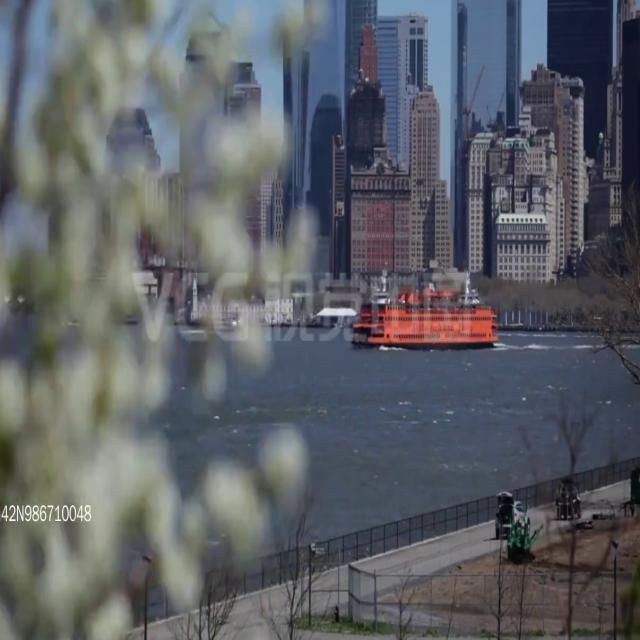passenger ship: (351, 271, 495, 355)
